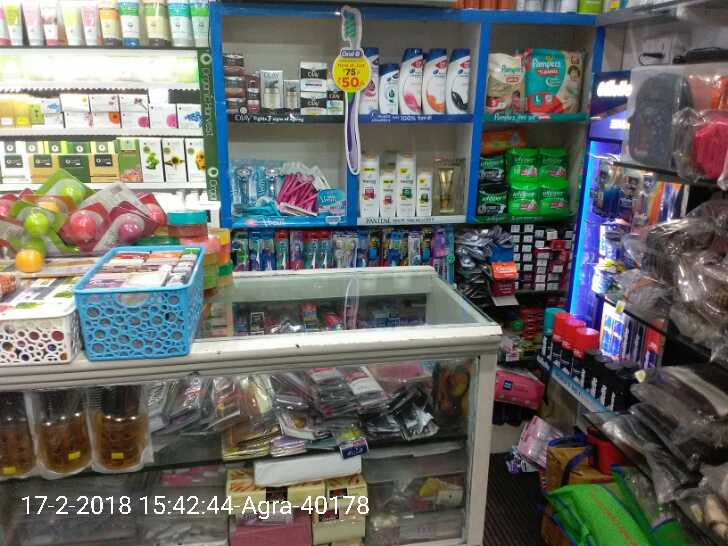gillete: (609, 372, 629, 410), (589, 266, 614, 292), (560, 319, 569, 375), (570, 328, 579, 382), (541, 306, 549, 359), (552, 313, 559, 368), (601, 364, 609, 408), (581, 349, 589, 390), (592, 357, 598, 398)
venus: (279, 164, 314, 211), (231, 162, 255, 215), (255, 162, 276, 215), (319, 190, 345, 218)
